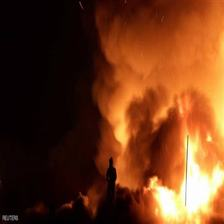fire: (108, 1, 223, 223)
